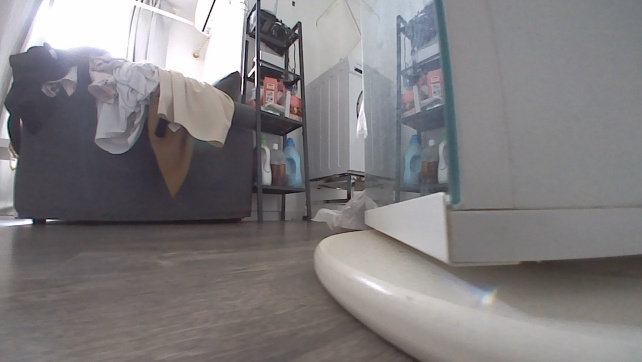sofa1: (1, 39, 263, 226)
